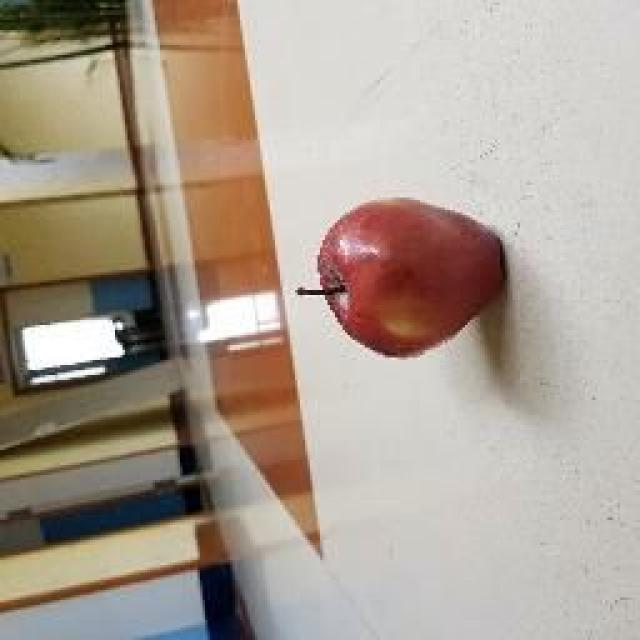Good_Apple: (318, 198, 508, 360)
